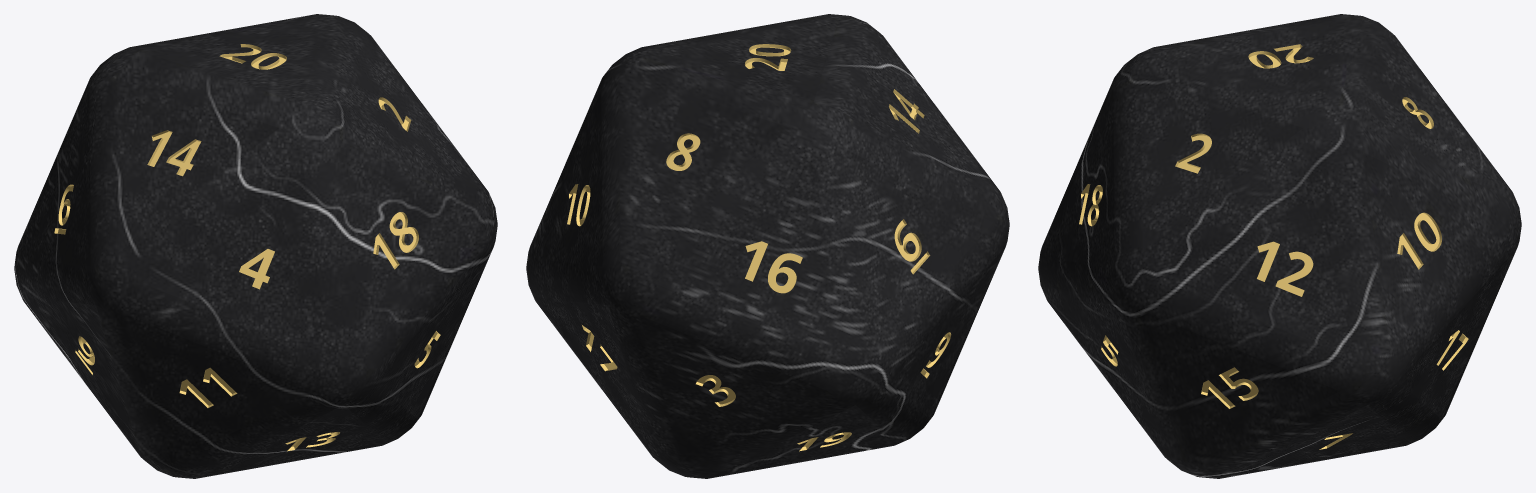
The picture shows the model from 3 angles, left to right: view 1: azimuth 30°, elevation 25°; view 2: azimuth 150°, elevation 25°; view 3: azimuth 270°, elevation 25°; orthographic projection.
Visible parts, largest first — view 1: body.001; view 2: body.001; view 3: body.001.
Boxes of the visible parts, x1,y1,x2,y2 form: body.001: (14, 14, 497, 478); body.001: (526, 14, 1009, 478); body.001: (1038, 14, 1521, 478).
Size of the model in its own units: 0.872 by 0.7947 by 0.9198.
2 materials, 1 textured.
